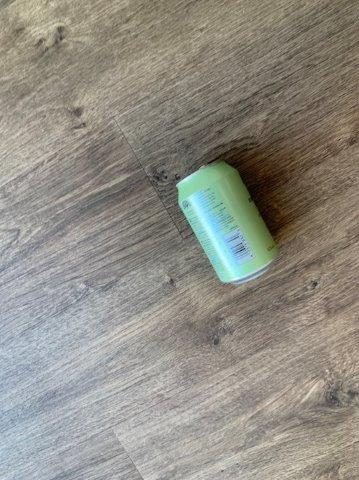kaleng: (178, 162, 276, 283)
